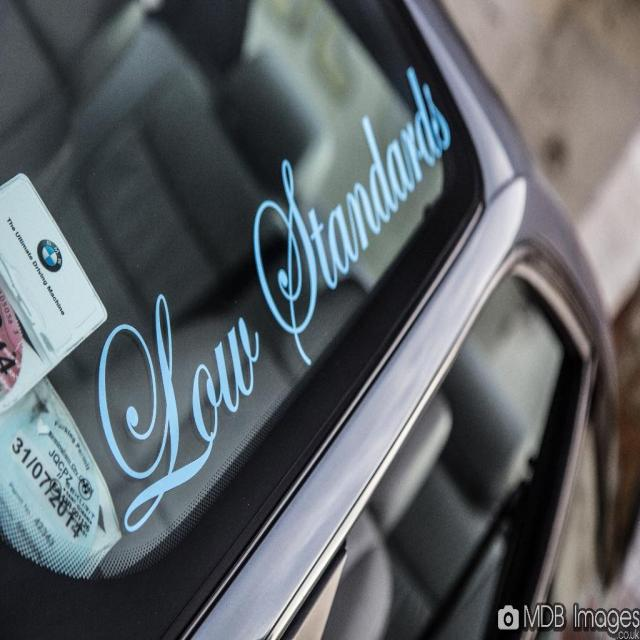car: (0, 0, 622, 638)
